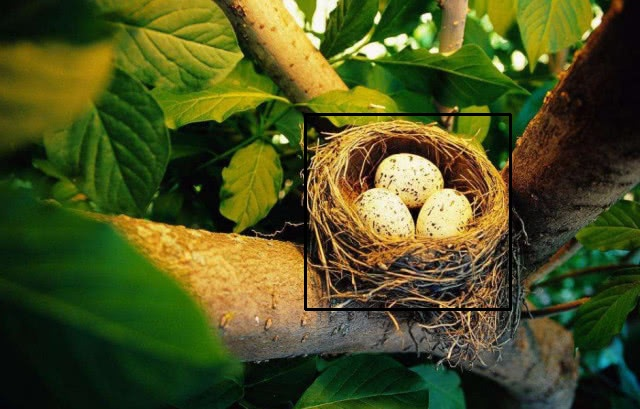bird-nest: (305, 114, 510, 309)
